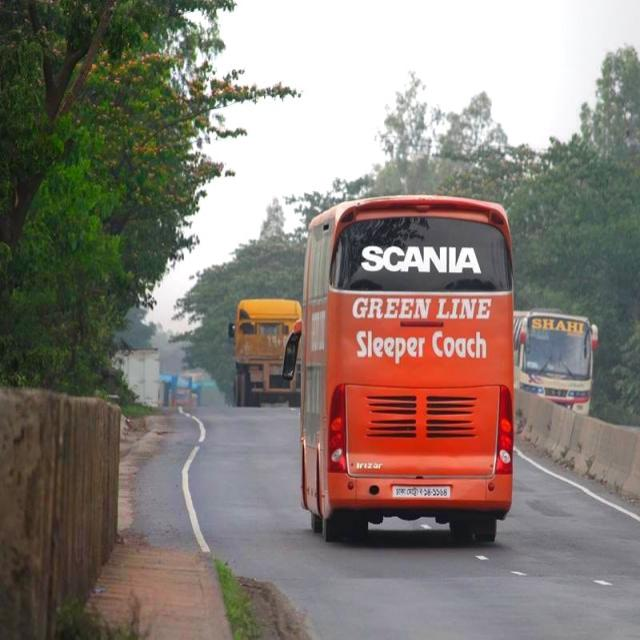bus: (295, 191, 516, 542)
